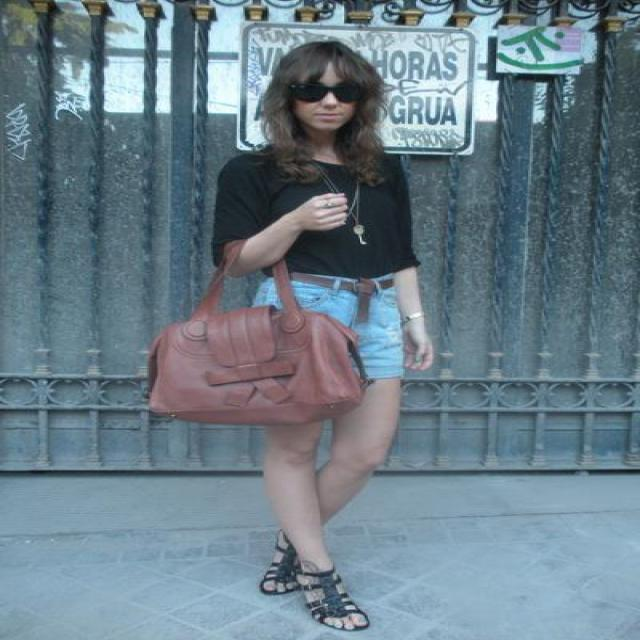bag: (149, 263, 363, 437)
shirt: (194, 145, 419, 282)
shoe: (301, 567, 341, 594)
shorts: (253, 276, 402, 377)
sunglass: (288, 74, 381, 114)
